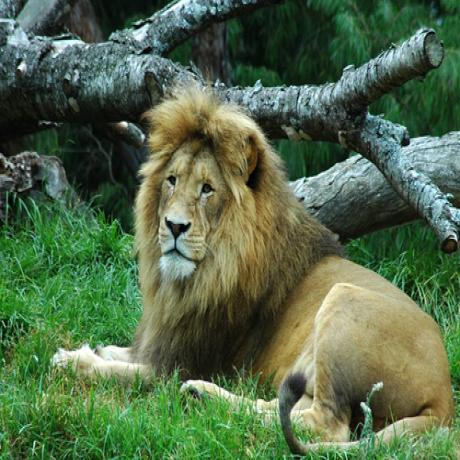Lion: (56, 88, 454, 455)
